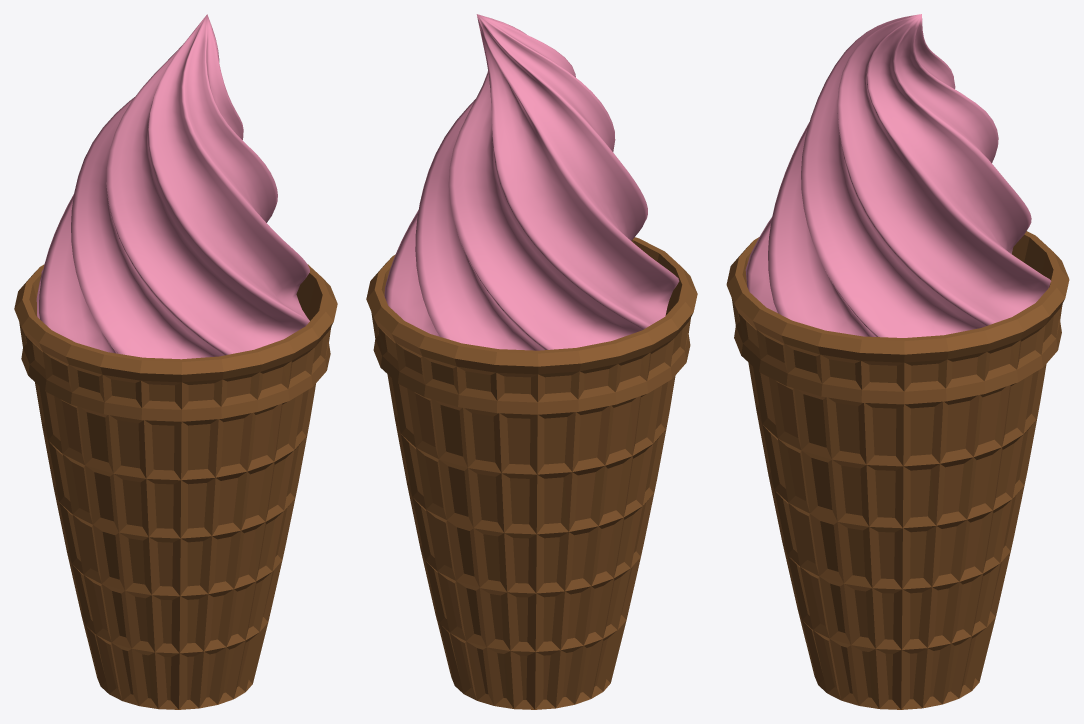
File: icecream_standing.FBX
3 renders of one model, left to right at view 1: azimuth 30°, elevation 25°; view 2: azimuth 150°, elevation 25°; view 3: azimuth 270°, elevation 25°, orthographic. The views are drawn at different scales.
Visible parts, largest first — view 1: Cone03, Star04; view 2: Cone03, Star04; view 3: Cone03, Star04.
Part boxes in pixels (x1,y1,x2,y2): Cone03: [14, 264, 337, 709]; Star04: [36, 14, 309, 359]; Cone03: [366, 237, 697, 709]; Star04: [384, 14, 679, 350]; Cone03: [726, 231, 1069, 709]; Star04: [745, 14, 1051, 337].
Bounding box in the file's own units: 70.9 × 156 × 70.9.
